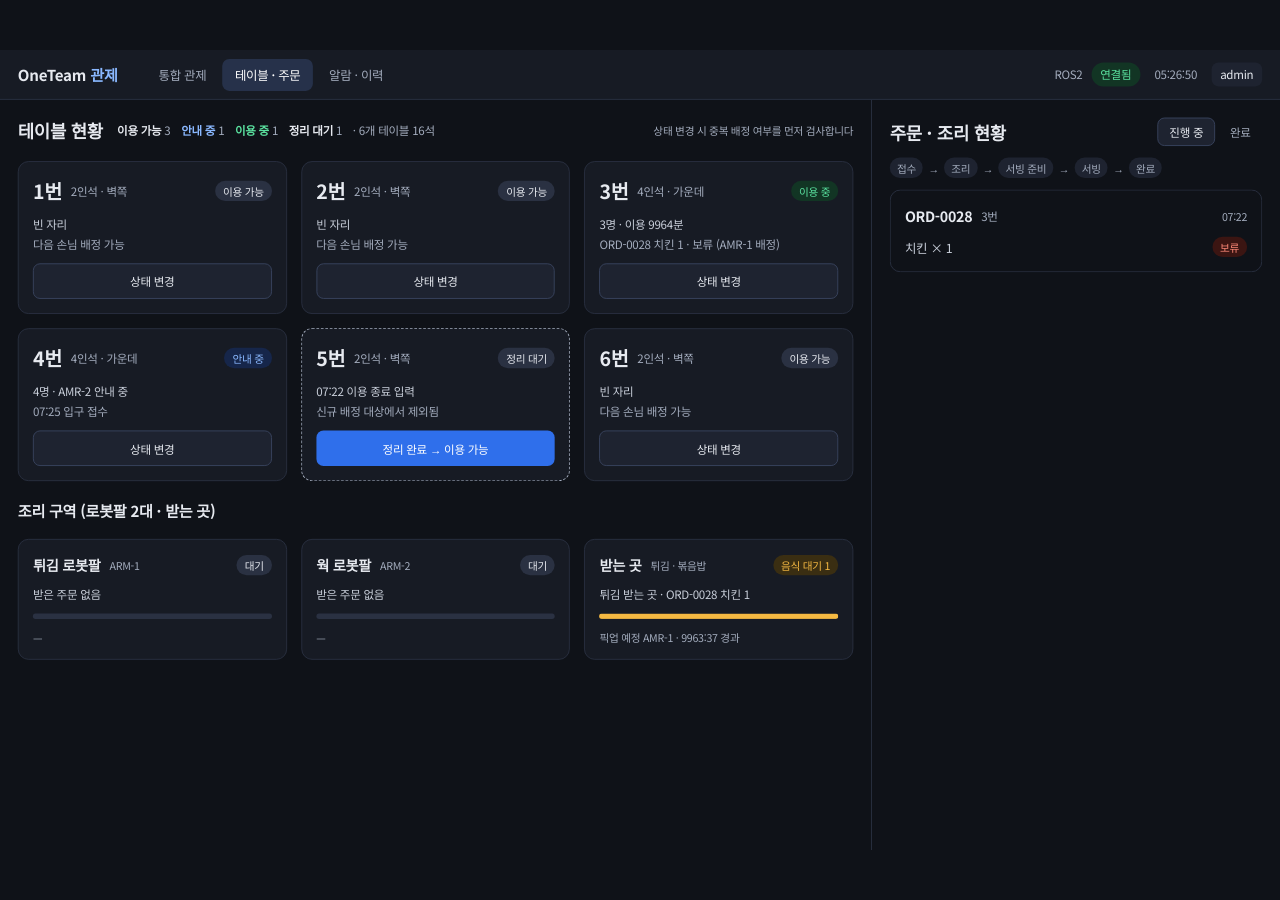
A2 테이블 · 주문 › 손님이 있는 테이블을 비우려 하면 충돌(CONFLICT) 이유를 보여 준다
The image size is (1280, 900).
Click the button "상태 변경" below "ORD-0028 치킨 1 · 보류 (AMR-1 배정)" at (719, 281), box top-left (599, 263), bottom-right (838, 299)
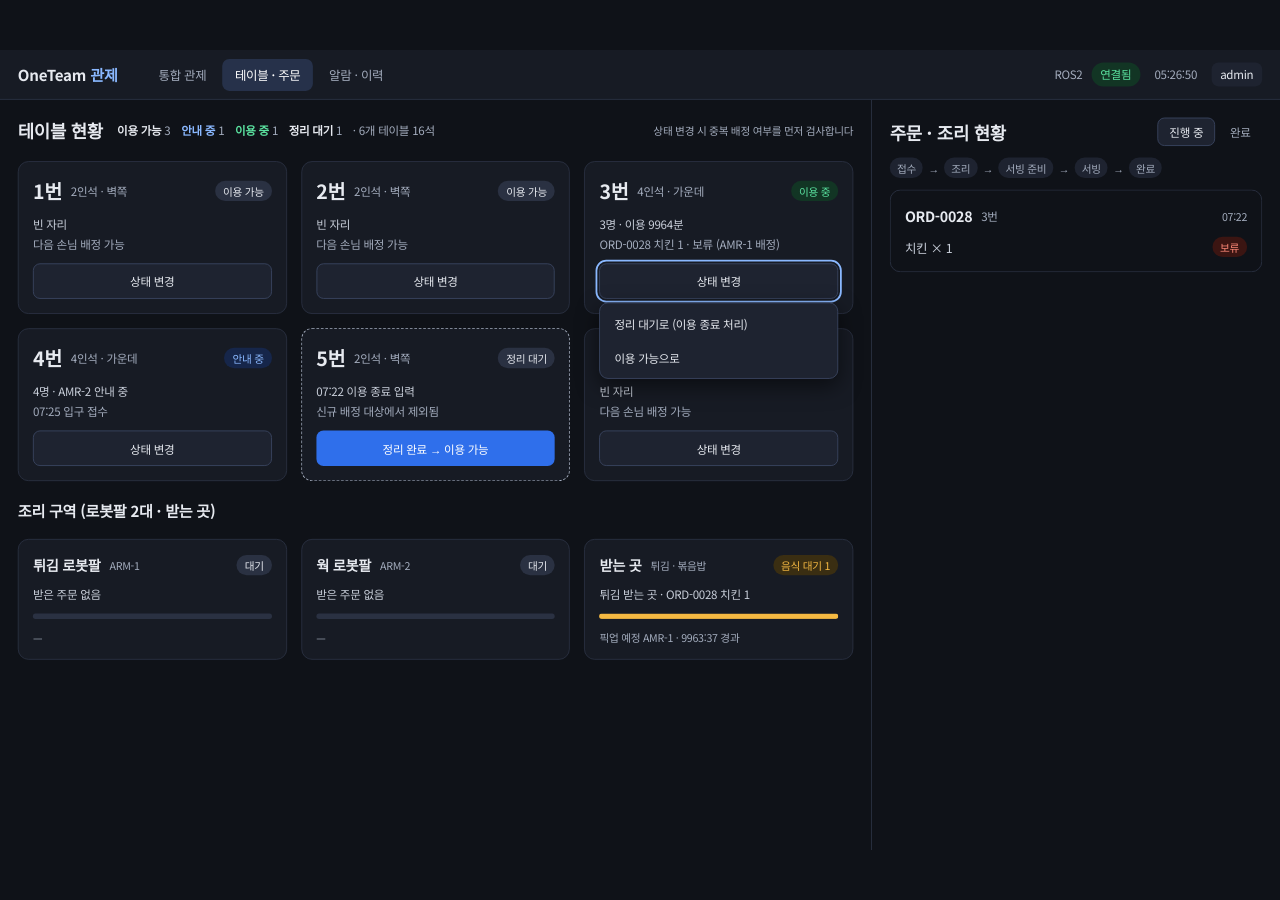
Click the menu item "이용 가능으로" at (719, 358), box top-left (604, 341), bottom-right (834, 374)
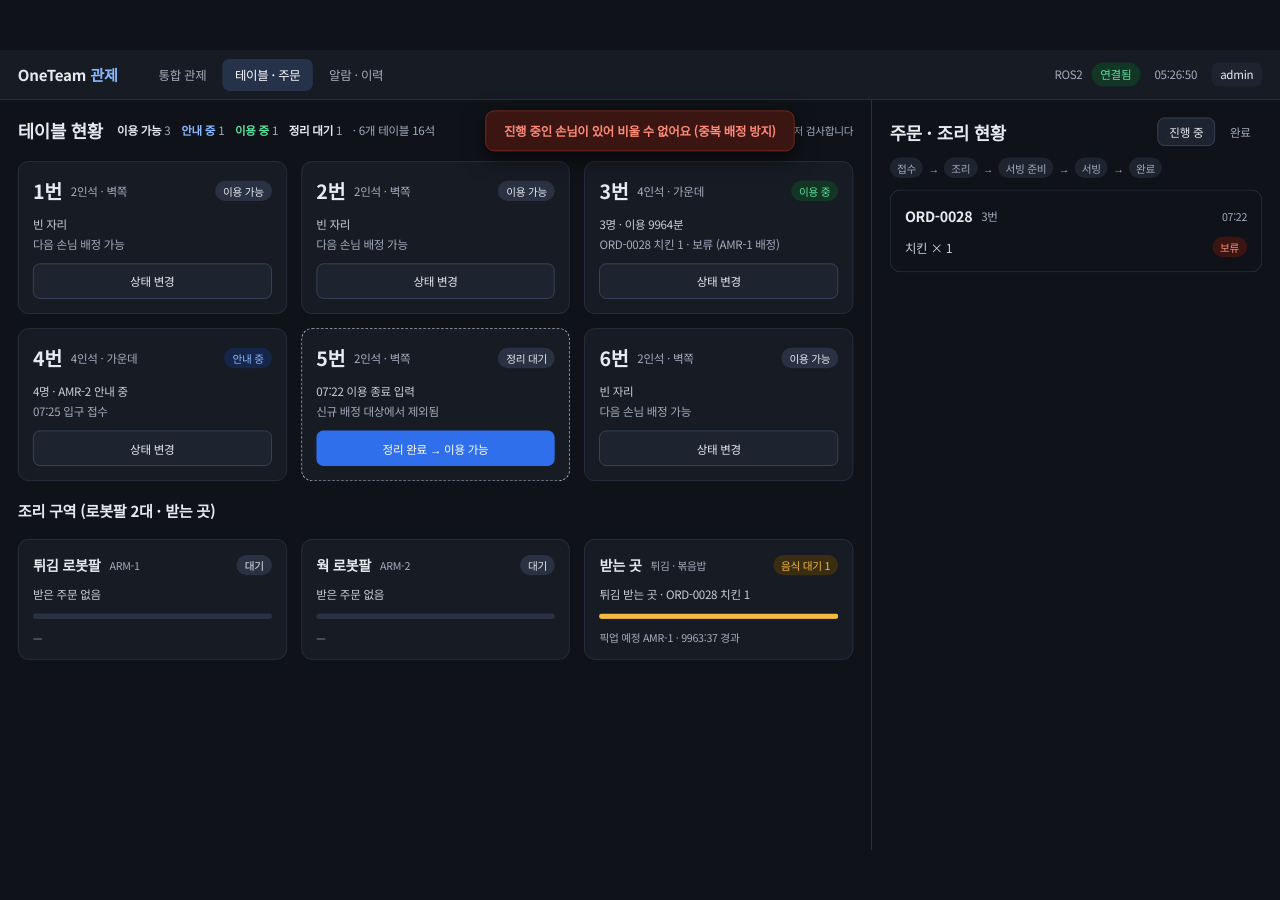
Result: the message shows "중복 배정" at top-left (504, 122), bottom-right (776, 140)
